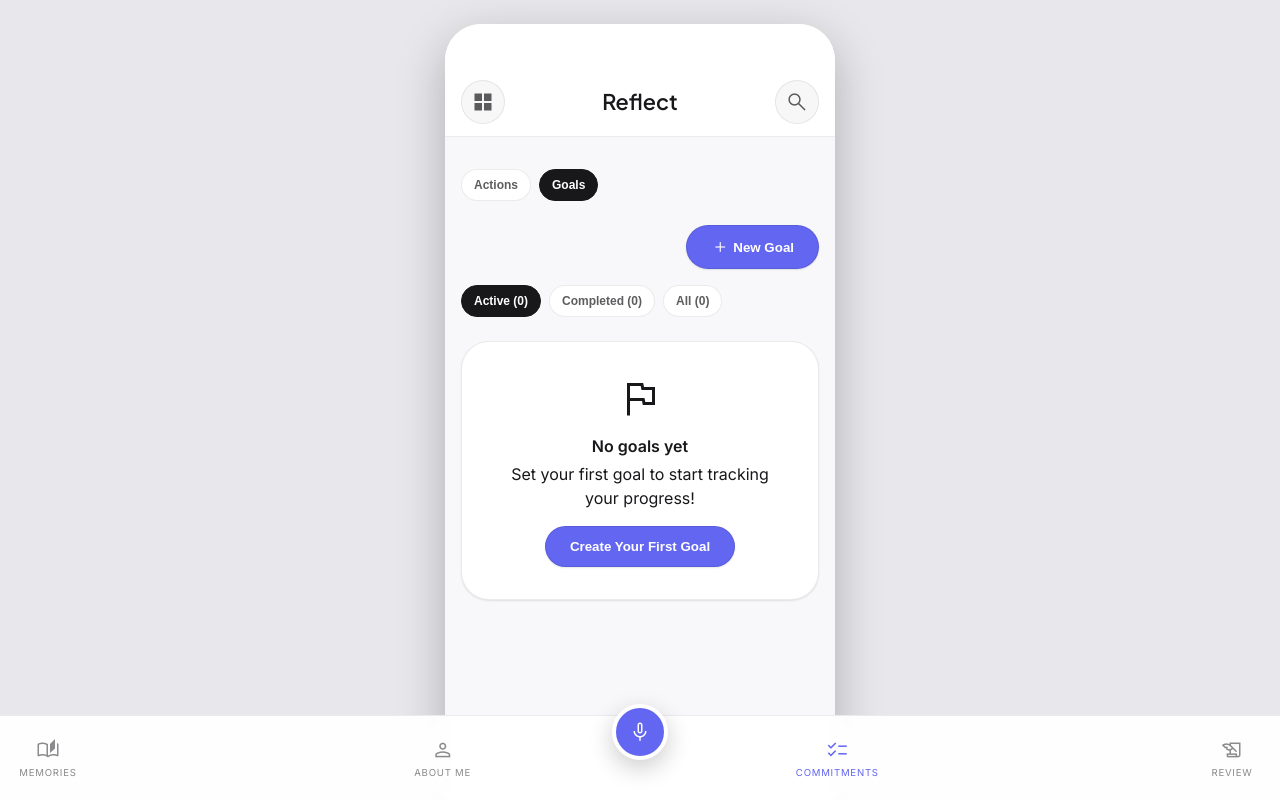
Reflect Goals tab › opens create goal modal when New Goal clicked
The image size is (1280, 800).
Click the button "New Goal" at (753, 247), box left=686, top=225, right=819, bottom=269
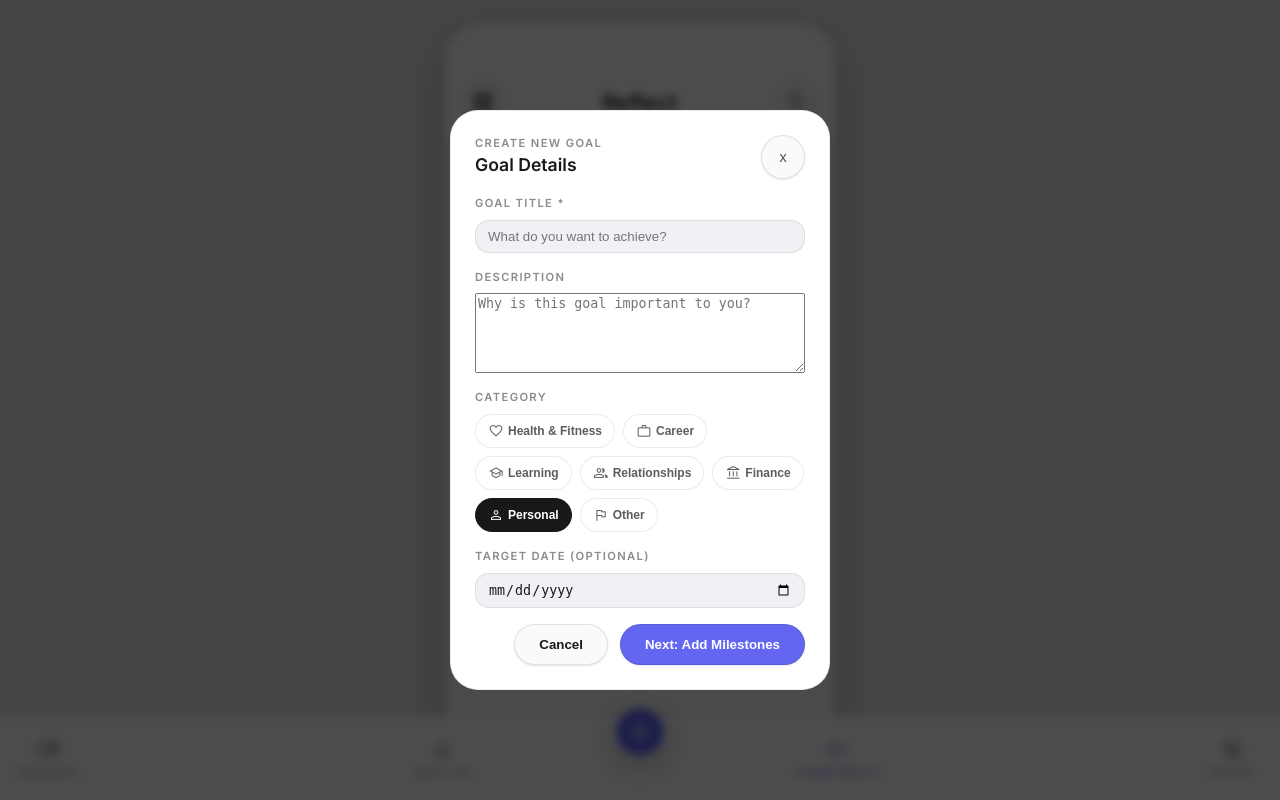
Result: the text "Create New Goal" is shown at left=475, top=135, right=602, bottom=152
Result: the field labelled "Goal Title *" is shown at left=475, top=220, right=805, bottom=252
